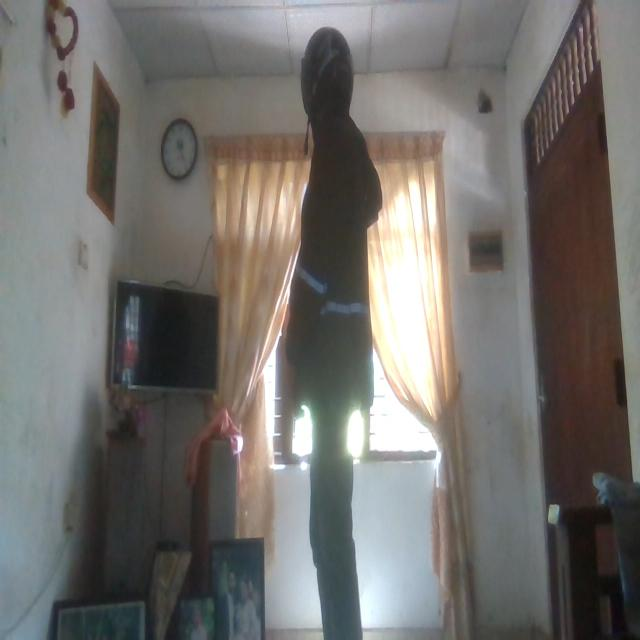Helmet_Wearer: (283, 26, 357, 130)
Jacket_Wearer: (276, 120, 402, 436)
Person: (264, 28, 392, 638)
